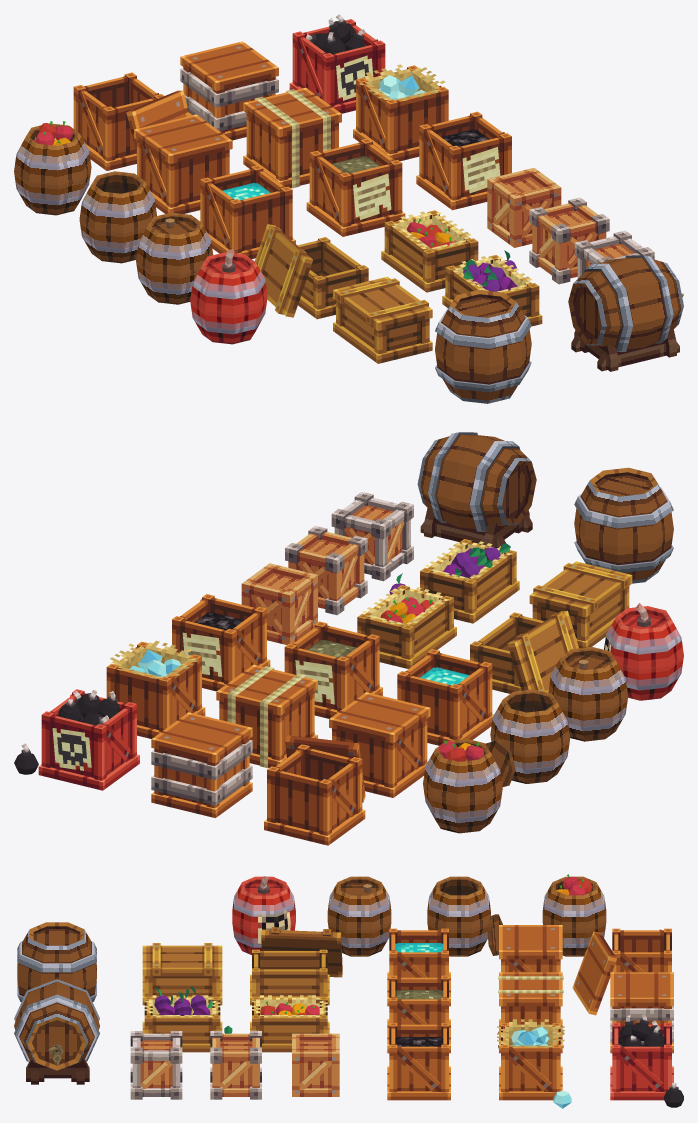
The model's file is crates-barrels.glb.
3 renders of one model, top to bottom at view 1: azimuth 30°, elevation 25°; view 2: azimuth 150°, elevation 25°; view 3: azimuth 270°, elevation 25°, orthographic. The views are drawn at different scales.
Visible parts, largest first — view 1: cylinder_11, cylinder_15, cylinder_8, cylinder_4, cylinder_10, cylinder_1, mesh_26_texture_crateA01.png_0, mesh_101_texture_crateC01.png_0, mesh_18_texture_crateA01.png_0, mesh_8_texture_crateA01.png_0, mesh_124_texture_crateA01.png_0, mesh_34_texture_crateA01.png_0 (+42 smaller); view 2: cylinder_15, cylinder_11, cylinder_8, cylinder_10, cylinder_1, cylinder_4, mesh_18_texture_crateA01.png_0, mesh_101_texture_crateC01.png_0, mesh_26_texture_crateA01.png_0, mesh_8_texture_crateA01.png_0, mesh_124_texture_crateA01.png_0, mesh_108_texture_crateC01.png_0 (+46 smaller); view 3: cylinder_8, cylinder_1, cylinder_10, cylinder_11, cylinder_15, mesh_80_texture_crateB01.png_0, mesh_101_texture_crateC01.png_0, cylinder_4, mesh_132_texture_crateC01.png_0, mesh_8_texture_crateA01.png_0, mesh_124_texture_crateA01.png_0, mesh_108_texture_crateC01.png_0 (+41 smaller).
Boxes of the visible parts, bbox=[...] form: cylinder_11: bbox=[435, 289, 531, 403]; cylinder_15: bbox=[568, 257, 683, 349]; cylinder_8: bbox=[79, 171, 156, 263]; cylinder_4: bbox=[190, 252, 267, 344]; cylinder_10: bbox=[14, 123, 91, 215]; cylinder_1: bbox=[136, 212, 213, 304]; mesh_26_texture_crateA01.png_0: bbox=[206, 169, 284, 250]; mesh_101_texture_crateC01.png_0: bbox=[487, 168, 561, 247]; mesh_18_texture_crateA01.png_0: bbox=[80, 76, 158, 158]; mesh_8_texture_crateA01.png_0: bbox=[134, 114, 232, 163]; mesh_124_texture_crateA01.png_0: bbox=[180, 41, 278, 90]; mesh_34_texture_crateA01.png_0: bbox=[316, 142, 394, 224]; cylinder_15: bbox=[417, 434, 536, 528]; cylinder_11: bbox=[574, 467, 673, 583]; cylinder_8: bbox=[490, 689, 569, 783]; cylinder_10: bbox=[423, 738, 502, 833]; cylinder_1: bbox=[548, 647, 628, 741]; cylinder_4: bbox=[606, 606, 683, 700]; mesh_18_texture_crateA01.png_0: bbox=[275, 748, 355, 832]; mesh_101_texture_crateC01.png_0: bbox=[241, 563, 317, 644]; mesh_26_texture_crateA01.png_0: bbox=[405, 653, 485, 737]; mesh_8_texture_crateA01.png_0: bbox=[329, 692, 430, 743]; mesh_124_texture_crateA01.png_0: bbox=[151, 712, 252, 763]; mesh_108_texture_crateC01.png_0: bbox=[288, 531, 364, 608]; cylinder_8: bbox=[427, 876, 490, 956]; cylinder_1: bbox=[327, 876, 391, 956]; cylinder_10: bbox=[542, 876, 606, 956]; cylinder_11: bbox=[17, 922, 96, 996]; cylinder_15: bbox=[14, 982, 99, 1070]; mesh_80_texture_crateB01.png_0: bbox=[254, 951, 325, 996]; mesh_101_texture_crateC01.png_0: bbox=[292, 1033, 339, 1096]; cylinder_4: bbox=[232, 876, 295, 954]; mesh_132_texture_crateC01.png_0: bbox=[132, 1033, 180, 1096]; mesh_8_texture_crateA01.png_0: bbox=[499, 925, 562, 959]; mesh_124_texture_crateA01.png_0: bbox=[610, 972, 673, 1006]; mesh_108_texture_crateC01.png_0: bbox=[212, 1033, 259, 1096].
Bounding box in the file's own units: 6.59 × 1.46 × 10.52.
8 materials, 8 textured.
